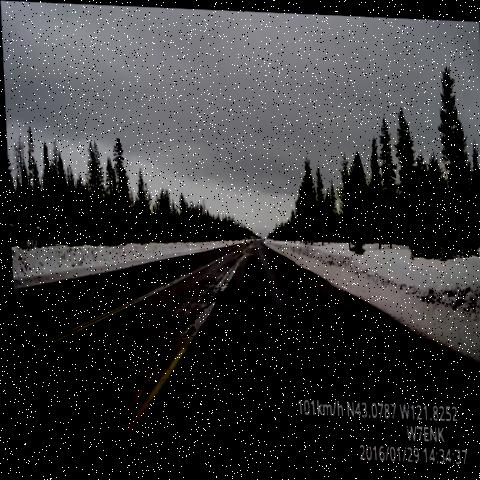pothole: (161, 259, 237, 361)
